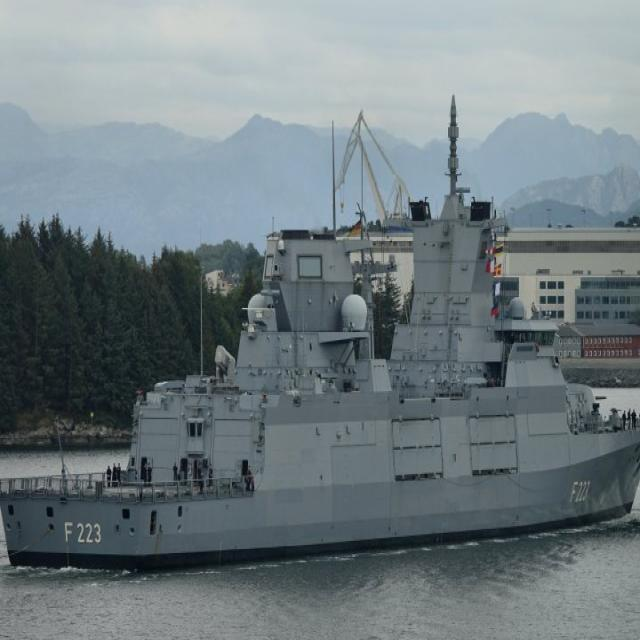Fragata: (1, 74, 640, 608)
